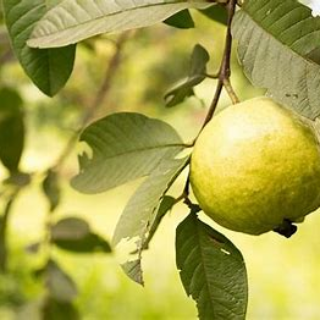oi: (186, 92, 320, 240)
